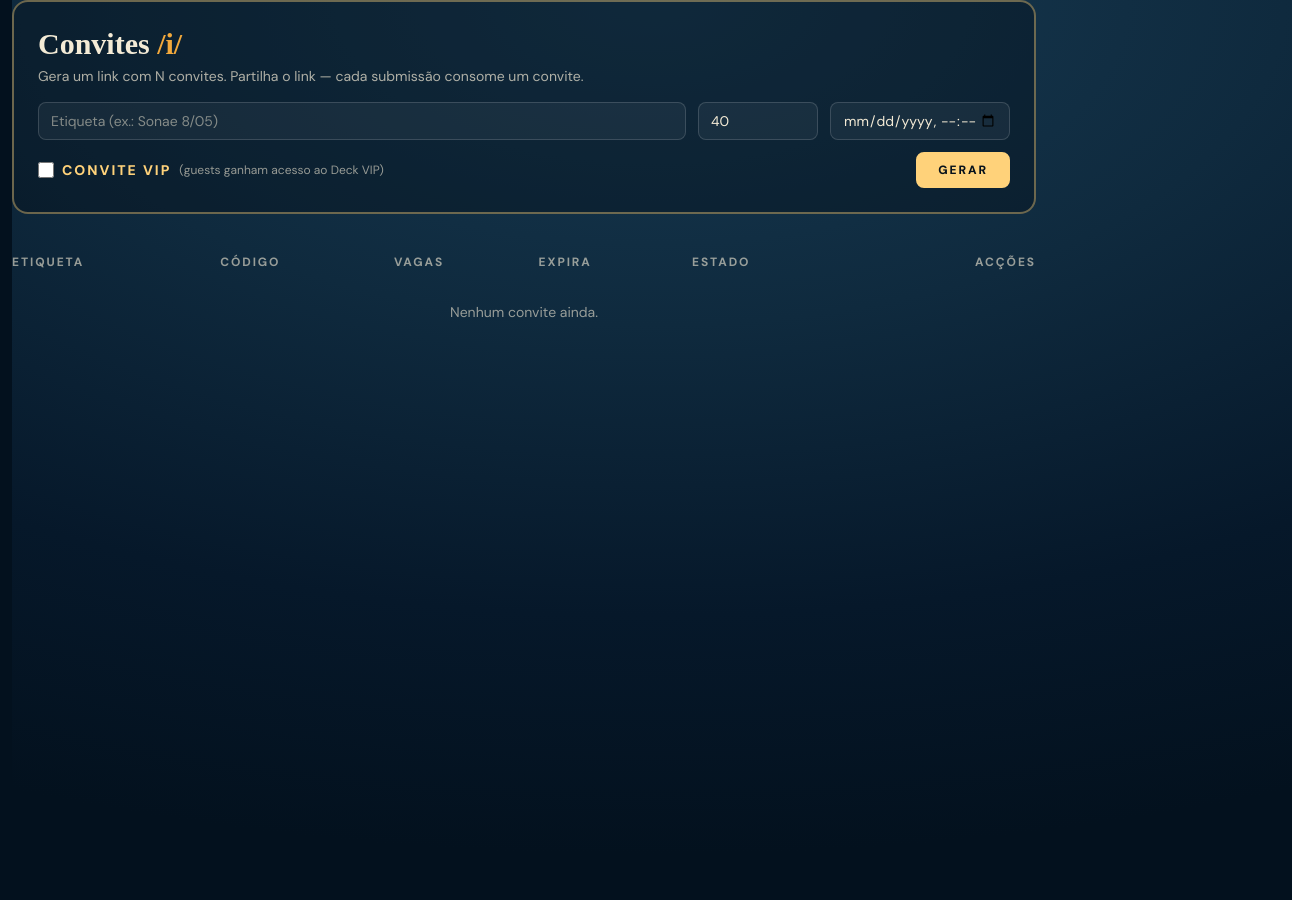
Test: InvitesPanel › create flow: max_uses inválido → erro client-side
Step 1. Replace the text in the number field named "Número de convites" with "5000" → (758, 121), box [698,102,818,140]
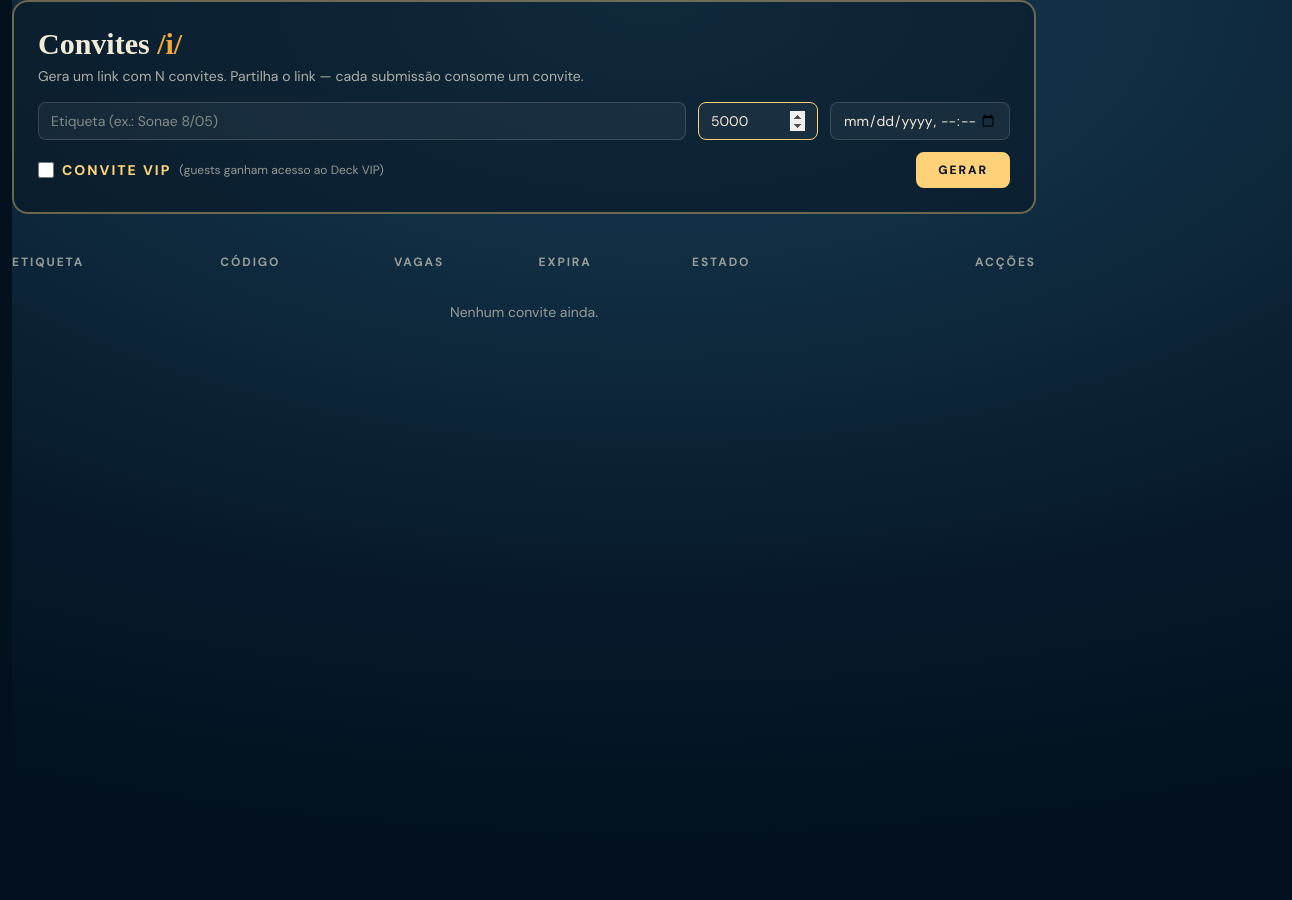
Step 2. Click the button "Gerar" → (963, 170), box [916,152,1010,188]
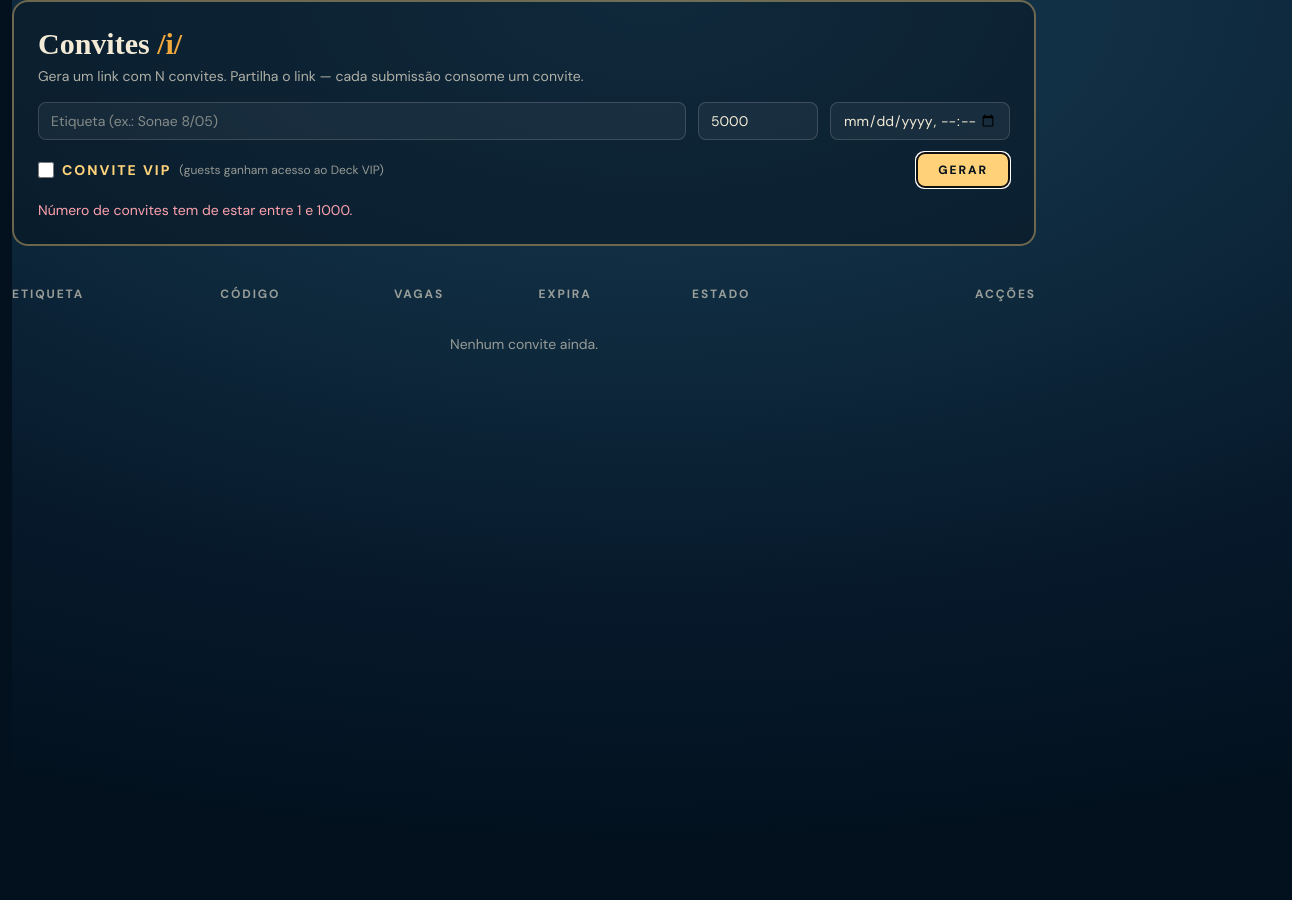
Now the message shows "entre 1 e 1000", box [38,201,352,219]
